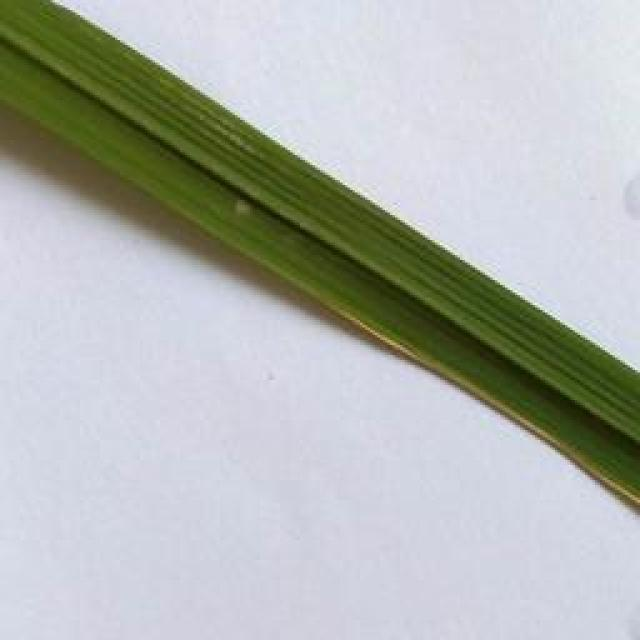Bacterial_Blight: (324, 287, 640, 523)
